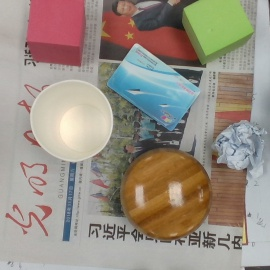card: (107, 44, 202, 134)
chess: (122, 147, 212, 239)
cup: (28, 79, 114, 162)
